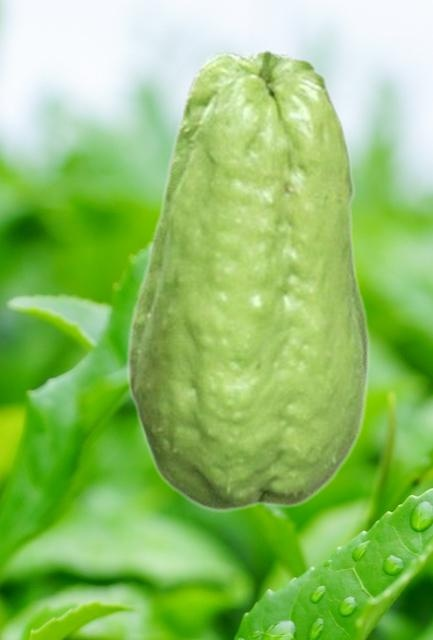sayote: (125, 48, 371, 513)
